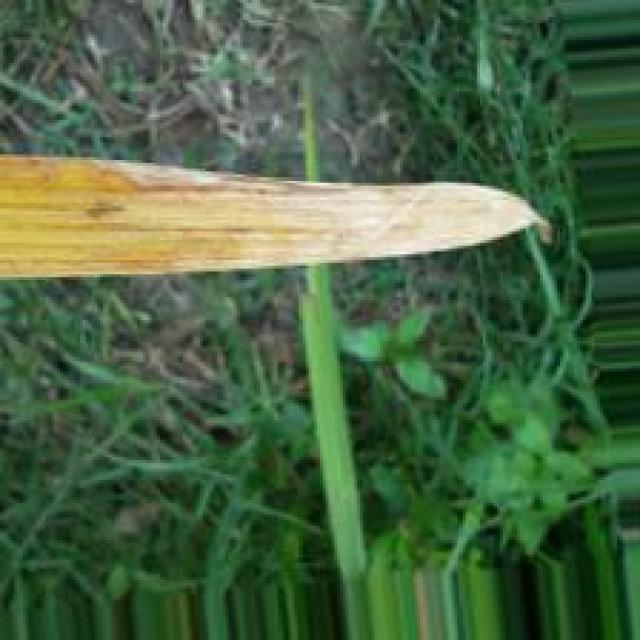Bacterial_Leaf_Blight: (0, 150, 556, 281)
